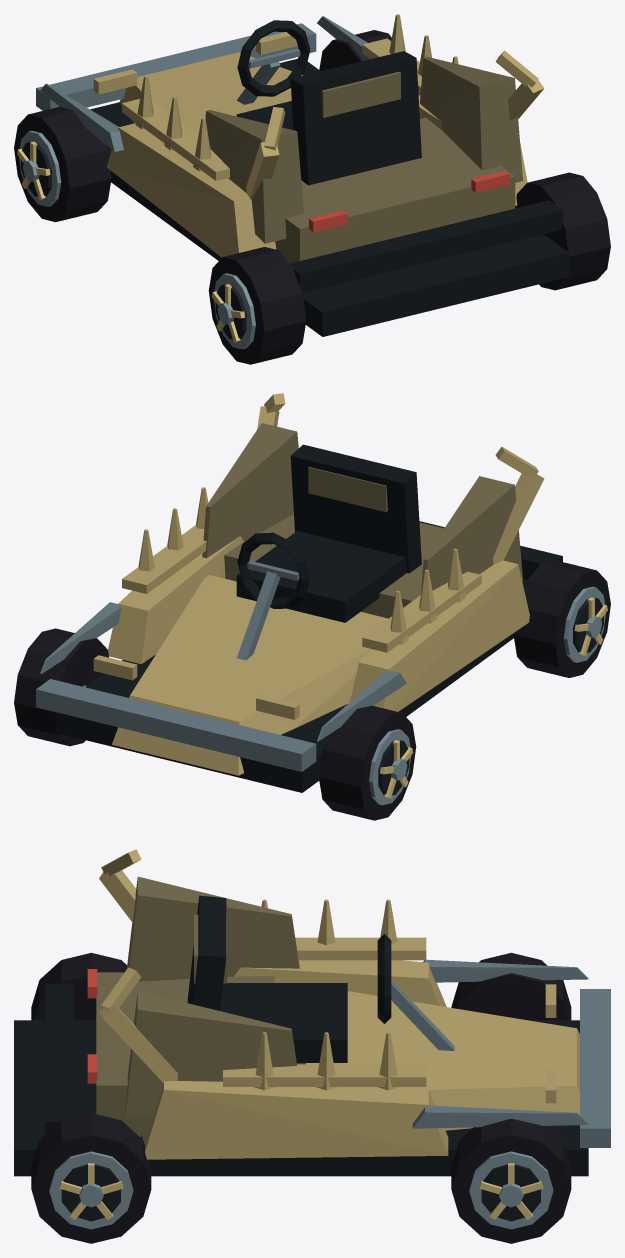
Rendered from kart.glb.
3 renders of one model, top to bottom at view 1: azimuth 30°, elevation 25°; view 2: azimuth 150°, elevation 25°; view 3: azimuth 270°, elevation 25°, orthographic. The views are drawn at different scales.
Parts seen in each view (by area): view 1: chassis, wheel-rear-left, wheel-front-left, wheel-rear-right, wheel-front-right; view 2: chassis, wheel-front-left, wheel-rear-left, wheel-front-right; view 3: chassis, wheel-rear-right, wheel-front-right, wheel-front-left, wheel-rear-left.
Part boxes in pixels (<box>): chassis: <box>36,14,568,336</box>; wheel-rear-left: <box>208,247,306,364</box>; wheel-front-left: <box>14,106,111,222</box>; wheel-rear-right: <box>515,172,610,290</box>; wheel-front-right: <box>319,30,391,71</box>; chassis: <box>36,393,562,792</box>; wheel-front-left: <box>318,705,416,820</box>; wheel-rear-left: <box>513,560,610,677</box>; wheel-front-right: <box>14,628,108,746</box>; chassis: <box>14,849,610,1176</box>; wheel-rear-right: <box>31,1113,151,1243</box>; wheel-front-right: <box>451,1118,571,1243</box>; wheel-front-left: <box>451,952,571,1020</box>; wheel-rear-left: <box>31,952,127,1020</box>.
Size of the model in its own units: 2.4 by 1.38 by 3.09.
